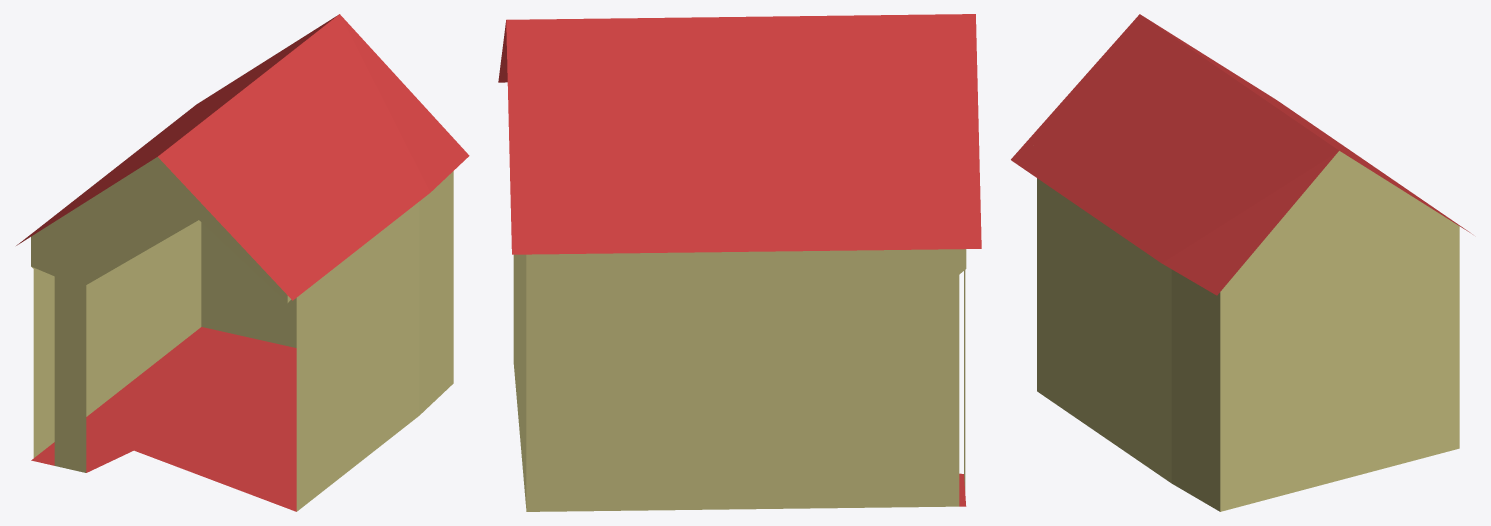
3 renders of one model, left to right at view 1: azimuth 30°, elevation 25°; view 2: azimuth 150°, elevation 25°; view 3: azimuth 270°, elevation 25°, orthographic. The views are drawn at different scales.
Bounding box in the file's own units: 19.98 × 19.16 × 15.21.
